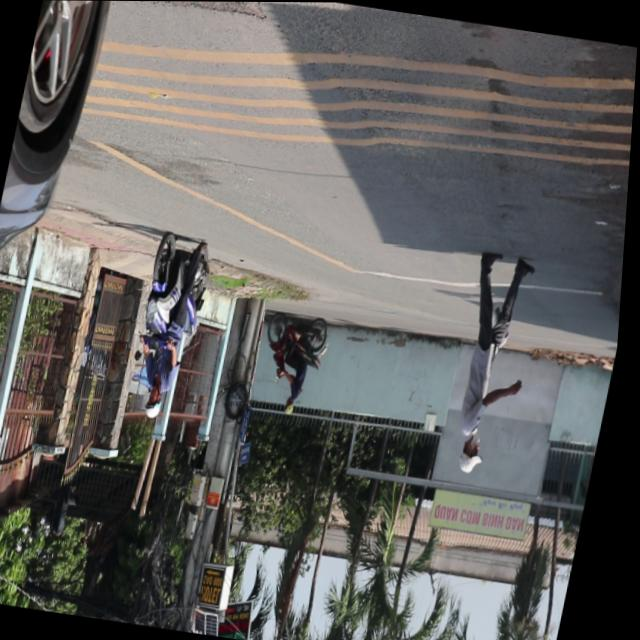helmet: (146, 383, 169, 421)
licenseplate: (122, 229, 221, 424)
